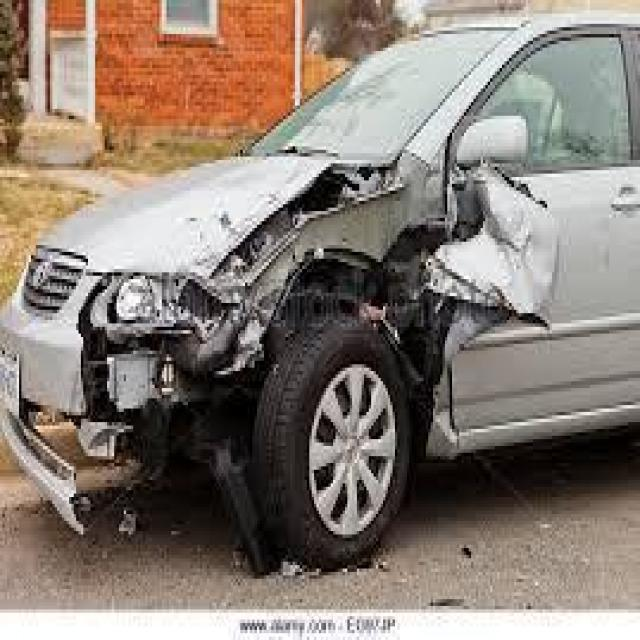damaged: (57, 146, 554, 524)
